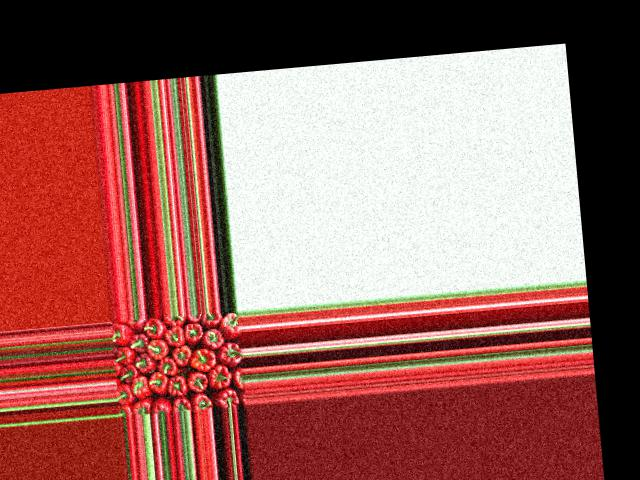bell_pepper: (111, 321, 133, 343)
